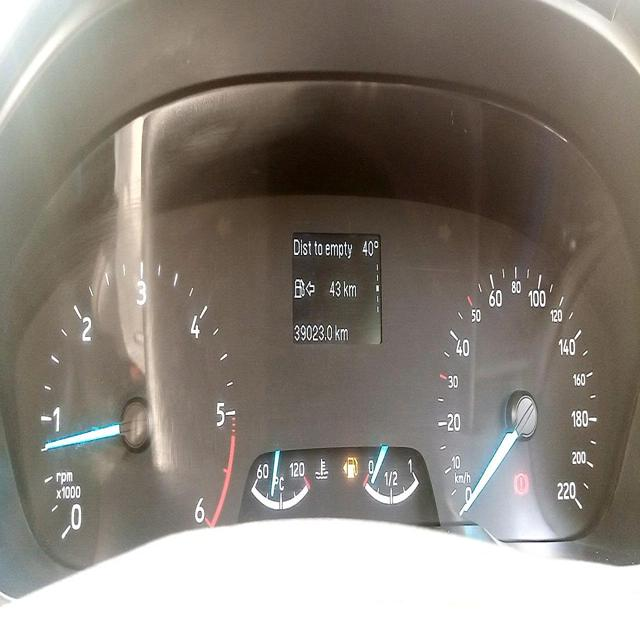odometer: (293, 318, 334, 346)
